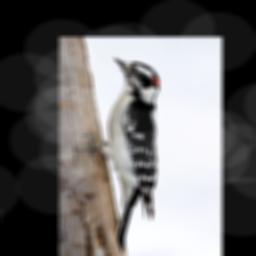Woodpecker: (74, 55, 162, 254)
